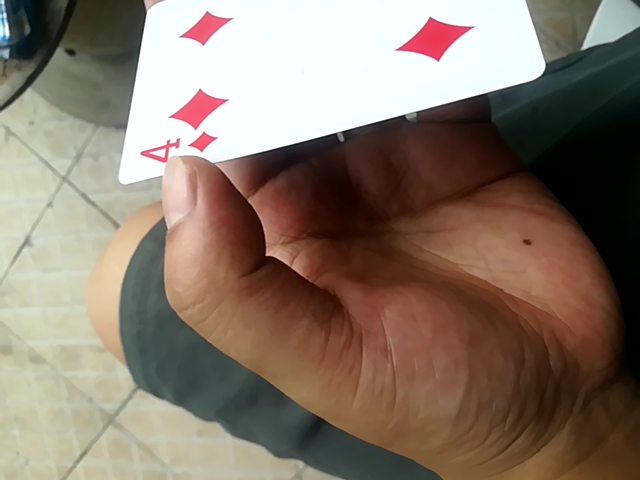fk 4: (115, 1, 551, 193)
